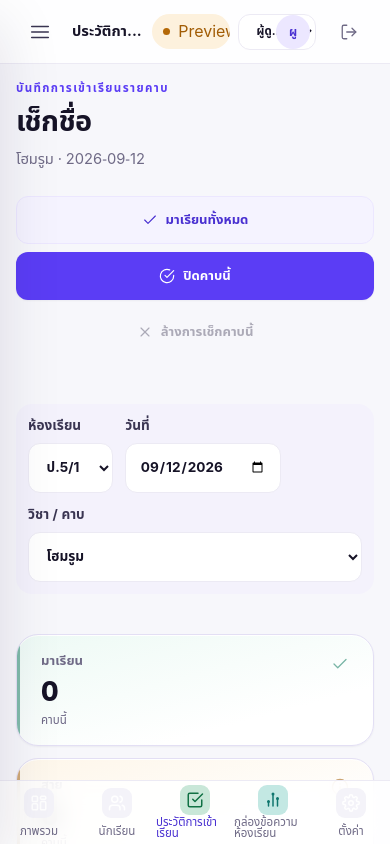
Test: the register › closing the period spells out that the rest are recorded absent
Click the button "ปิดคาบนี้" at (195, 276), box [16,252,374,300]
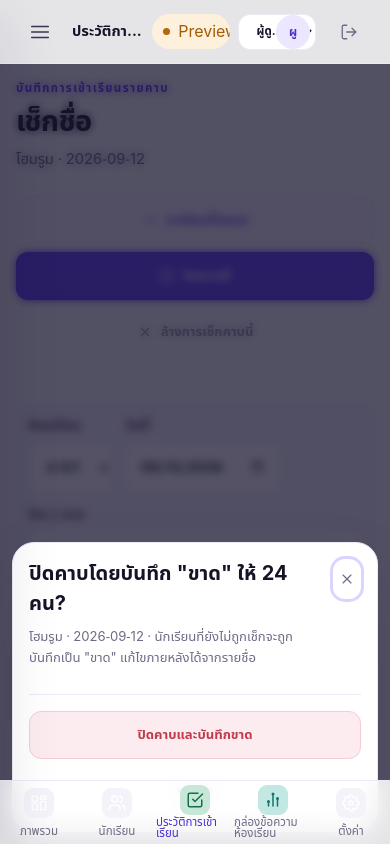
expect the heading "ปิดคาบโดยบันทึก \"ขาด\" ให้ 24 คน?" is shown: met, box [29,559,317,619]
expect the button "ปิดคาบและบันทึกขาด" is shown: met, box [29,711,361,759]
